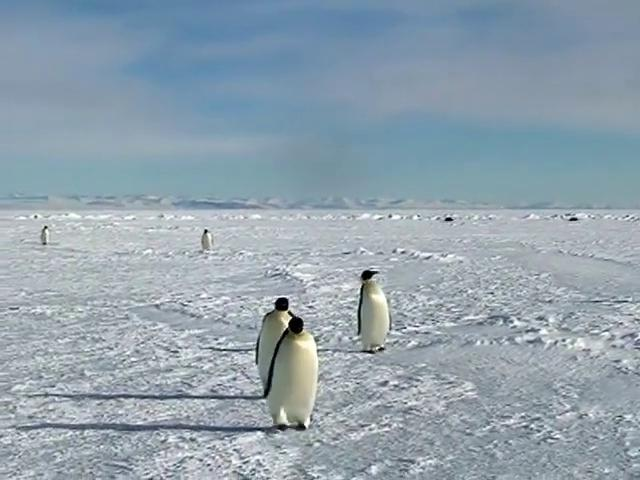animal: (357, 270, 390, 351)
